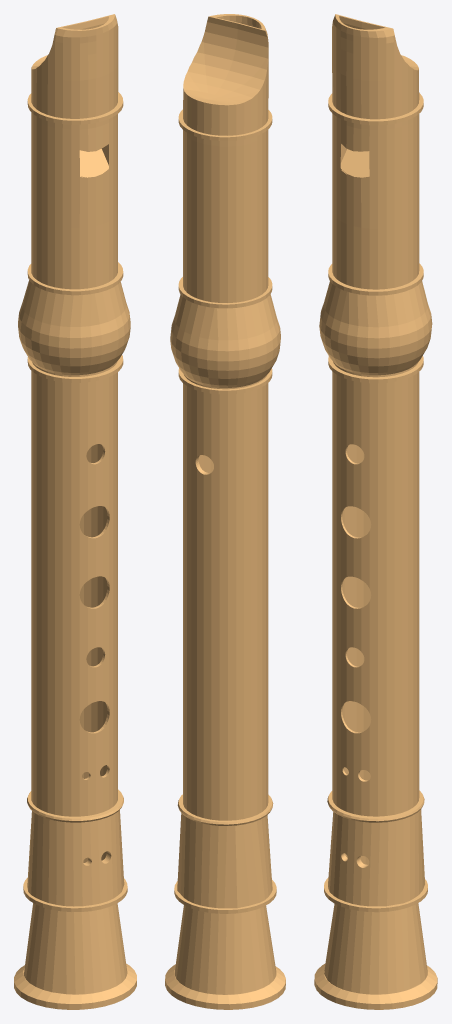
Rendered from Flute.fbx.
3 views of the same model, side by side, from view 1: azimuth 30°, elevation 25°; view 2: azimuth 150°, elevation 25°; view 3: azimuth 330°, elevation 25° (orthographic).
Visible parts, largest first — view 1: Cylinder.002; view 2: Cylinder.002; view 3: Cylinder.002.
Boxes of the visible parts, bbox=[...] form: Cylinder.002: bbox=[14, 14, 136, 1009]; Cylinder.002: bbox=[165, 14, 285, 1009]; Cylinder.002: bbox=[314, 14, 437, 1009].
Size of the model in its own units: 28.66 by 246 by 27.36.
